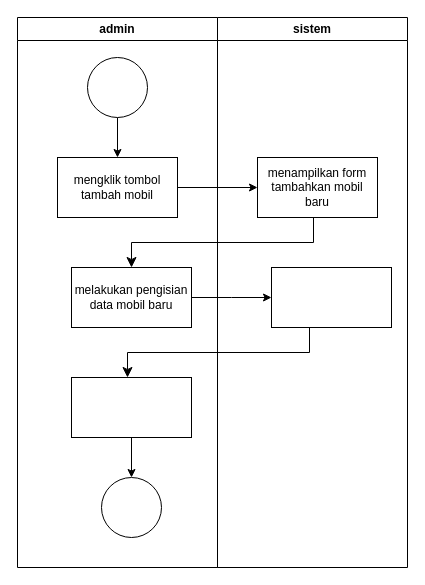
This 425x585 diagram has some shape labels left out. Each missing label, with the centre of its shape:
data berhasil ditambahkan: point (331, 297)
manampilkan kembali menu kelola mobil: point (131, 407)
